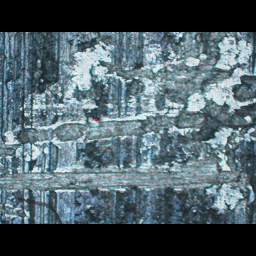d: (0, 36, 253, 152), (0, 159, 249, 195)
